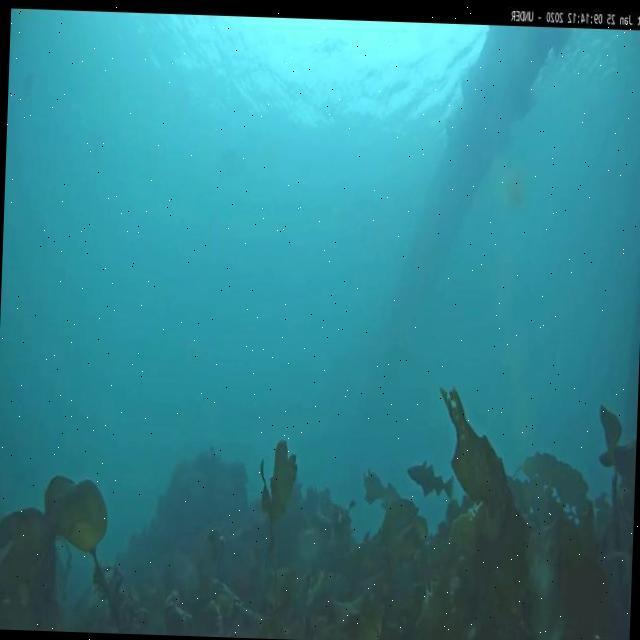fish: (406, 464, 452, 496)
